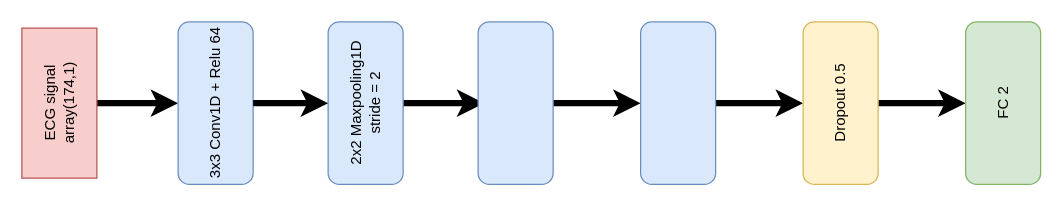
The diagram is 1063 pixels wide and 206 high, and some of its shapes have lost their labels. Here are the shapes that lost their labels. From the top down, the centre of each, then its label:
the point at 515,102: Flatten
the point at 677,102: FC 64
